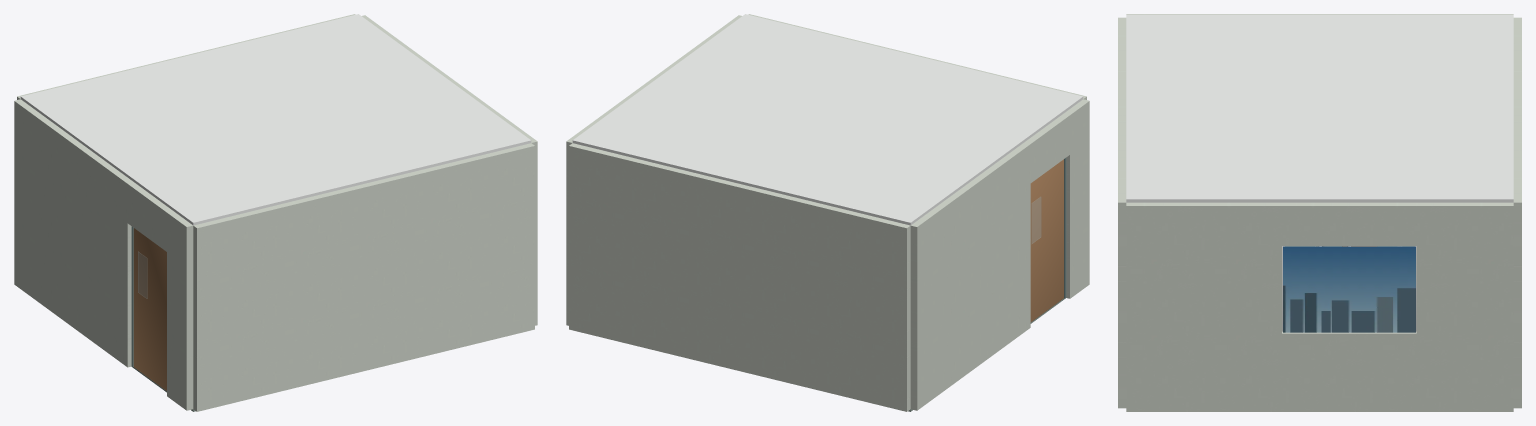
3 renders of one model, left to right at view 1: azimuth 30°, elevation 25°; view 2: azimuth 150°, elevation 25°; view 3: azimuth 270°, elevation 25°, orthographic. The views are drawn at different scales.
Parts seen in each view (by area): view 1: Wall_Front, Ceiling, Wall_Left, Door, Wall_Right, Wall_Back; view 2: Wall_Back, Ceiling, Wall_Left, Door, Wall_Right, Wall_Front; view 3: Ceiling, Wall_Right, Window_View, Wall_Back, Wall_Front, Wall_Left.
Part boxes in pixels (x1=…): Wall_Front: x1=193, y1=143, x2=534, y2=411; Ceiling: x1=20, y1=14, x2=531, y2=225; Wall_Left: x1=14, y1=99, x2=193, y2=410; Door: x1=133, y1=228, x2=166, y2=390; Wall_Right: x1=362, y1=15, x2=537, y2=325; Wall_Back: x1=17, y1=14, x2=355, y2=99; Wall_Back: x1=569, y1=143, x2=910, y2=411; Ceiling: x1=572, y1=14, x2=1083, y2=225; Wall_Left: x1=910, y1=99, x2=1089, y2=410; Door: x1=1030, y1=159, x2=1063, y2=322; Wall_Right: x1=566, y1=15, x2=741, y2=325; Wall_Front: x1=748, y1=14, x2=1086, y2=99; Ceiling: x1=1126, y1=14, x2=1513, y2=202; Wall_Right: x1=1126, y1=202, x2=1513, y2=411; Window_View: x1=1283, y1=246, x2=1415, y2=332; Wall_Back: x1=1513, y1=17, x2=1521, y2=408; Wall_Front: x1=1118, y1=17, x2=1126, y2=408; Wall_Left: x1=1126, y1=14, x2=1513, y2=14.
Size of the model in its own units: 5.4 by 2.78 by 4.8.
130 materials, 15 textured.
